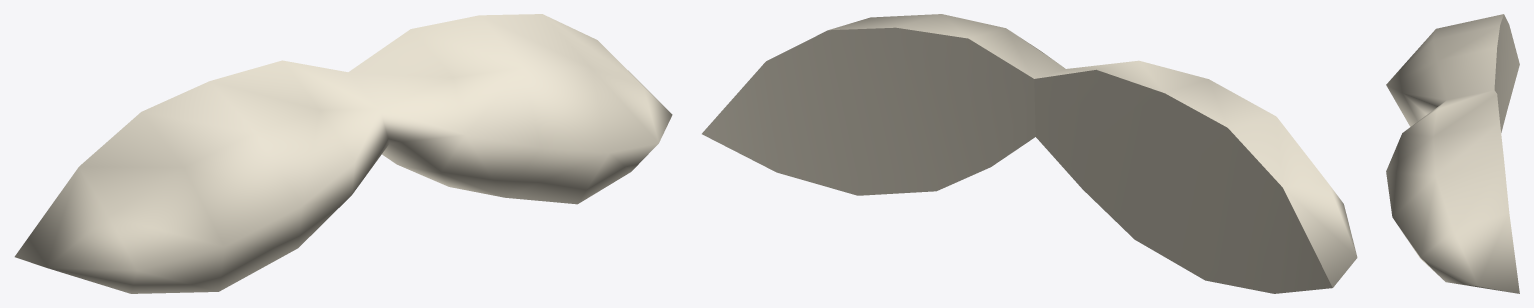
The model's file is Mustache_4.fbx.
3 renders of one model, left to right at view 1: azimuth 30°, elevation 25°; view 2: azimuth 150°, elevation 25°; view 3: azimuth 270°, elevation 25°, orthographic. The views are drawn at different scales.
Parts seen in each view (by area): view 1: Mustache_4; view 2: Mustache_4; view 3: Mustache_4.
Boxes of the visible parts, x1,y1,x2,y2 form: Mustache_4: [14, 14, 672, 293]; Mustache_4: [702, 14, 1357, 293]; Mustache_4: [1386, 14, 1519, 293].
Size of the model in its own units: 20.94 by 5.81 by 5.16.
